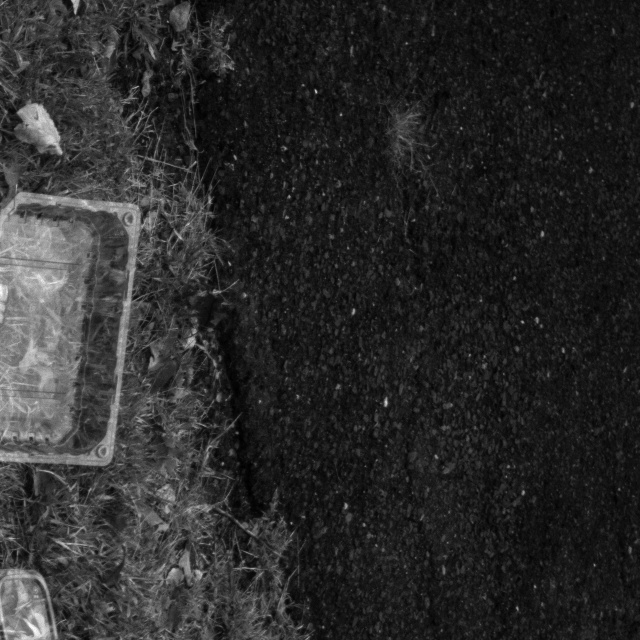container: (0, 181, 149, 465), (0, 566, 58, 640)
